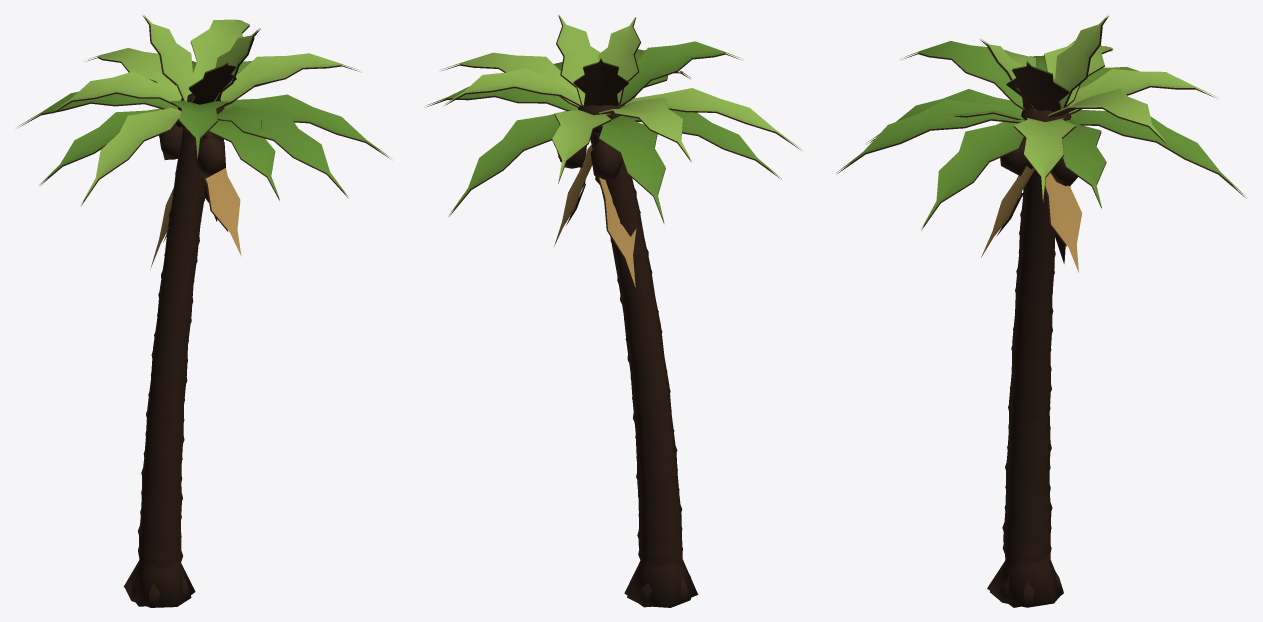
Rendered from palm_a.glb.
The picture shows the model from 3 angles, left to right: view 1: azimuth 30°, elevation 25°; view 2: azimuth 150°, elevation 25°; view 3: azimuth 270°, elevation 25°; orthographic projection. The views are drawn at different scales.
Parts seen in each view (by area): view 1: palm_a, palm_a_LOD1_outline, palm_a_outline; view 2: palm_a, palm_a_LOD1_outline, palm_a_outline; view 3: palm_a, palm_a_LOD1_outline, palm_a_outline.
Part boxes in pixels (box(x1,y1,x2,y2)): palm_a: box(17, 14, 390, 268); palm_a_LOD1_outline: box(123, 26, 254, 606); palm_a_outline: box(17, 15, 389, 607); palm_a: box(426, 15, 800, 287); palm_a_LOD1_outline: box(556, 27, 698, 607); palm_a_outline: box(426, 15, 801, 607); palm_a: box(836, 14, 1247, 272); palm_a_LOD1_outline: box(987, 26, 1102, 607); palm_a_outline: box(837, 16, 1245, 607).
Size of what is drawn, in the model's own units: 5.33 by 8.38 by 5.33.
